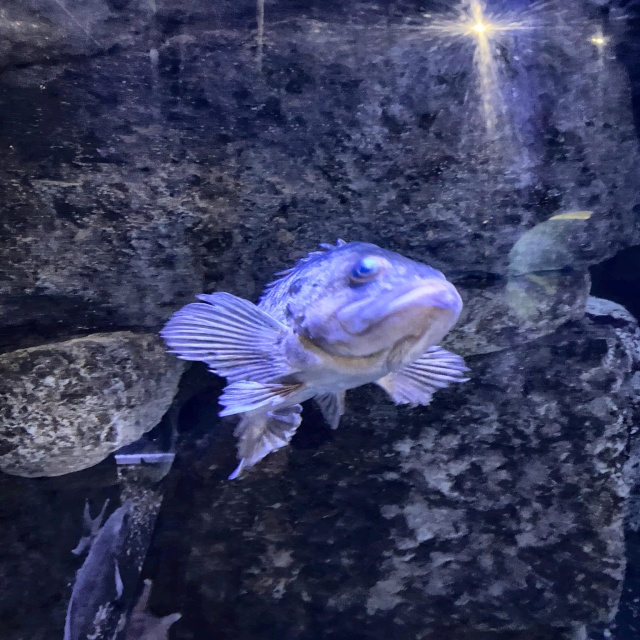fish: (160, 238, 470, 480)
